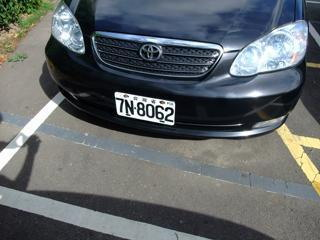plate: (112, 88, 176, 128)
